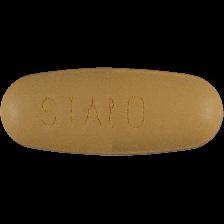0078-0352: (0, 0, 224, 224)
